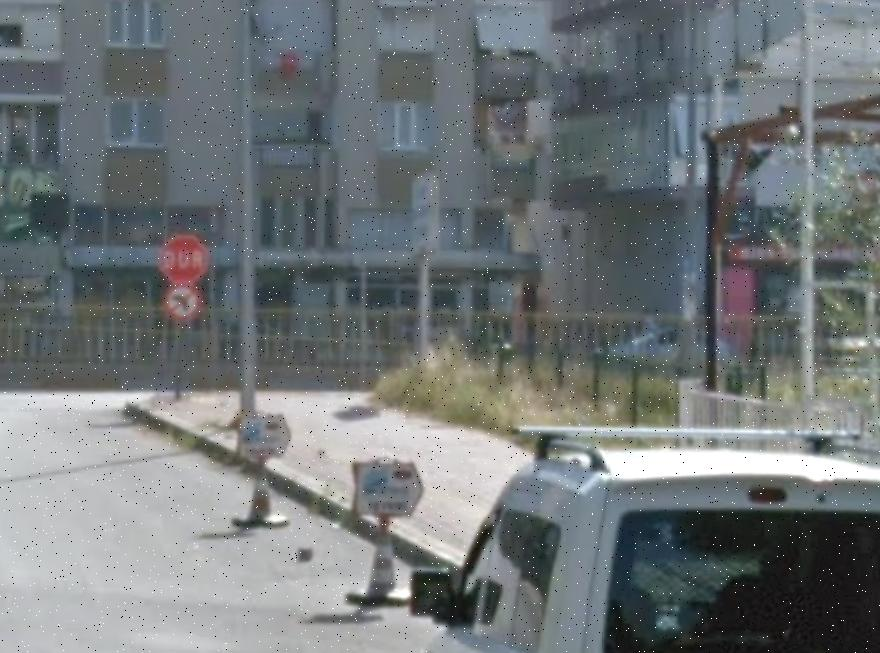leftturnsareforbidden: (159, 283, 203, 322)
stop: (160, 232, 209, 283)
